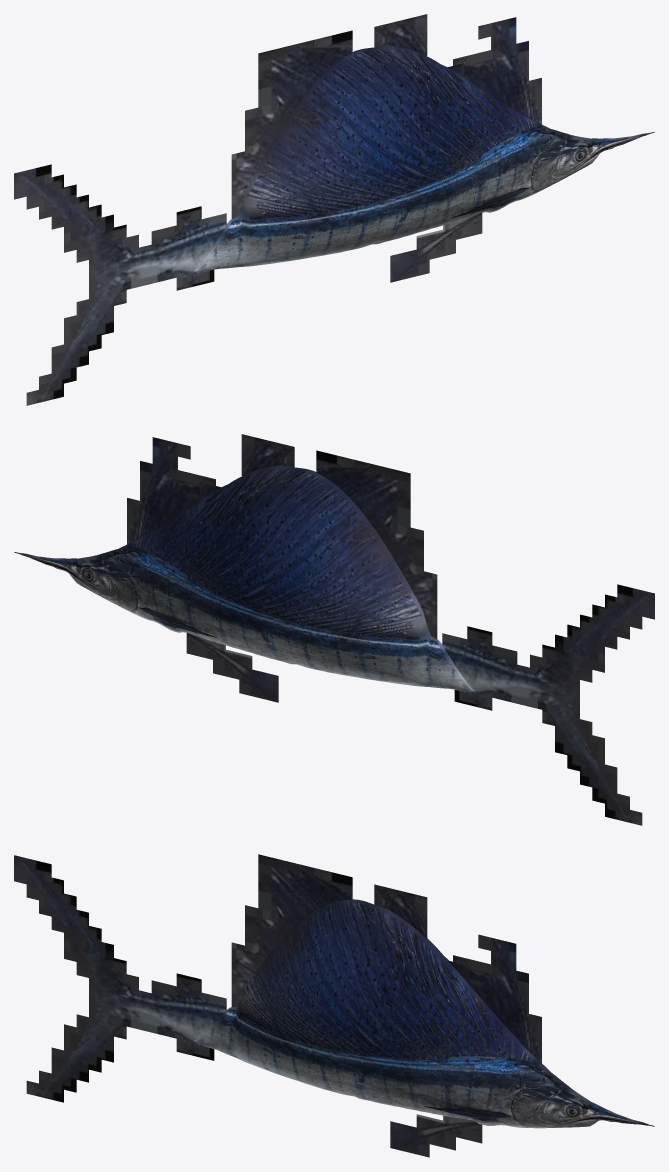
Rendered from real-istiophorus_platypterus.glb.
3 renders of one model, top to bottom at view 1: azimuth 30°, elevation 25°; view 2: azimuth 150°, elevation 25°; view 3: azimuth 330°, elevation 25°, orthographic.
Parts seen in each view (by area): view 1: istiophorus_platypterus; view 2: istiophorus_platypterus; view 3: istiophorus_platypterus.
Part boxes in pixels (box(x1,y1,x2,y2)): istiophorus_platypterus: box(14, 14, 654, 405); istiophorus_platypterus: box(14, 434, 654, 825); istiophorus_platypterus: box(14, 854, 654, 1157).
Bounding box in the file's own units: 2.47 × 1.09 × 0.3209.
Materials: 1 (1 with a texture image).
